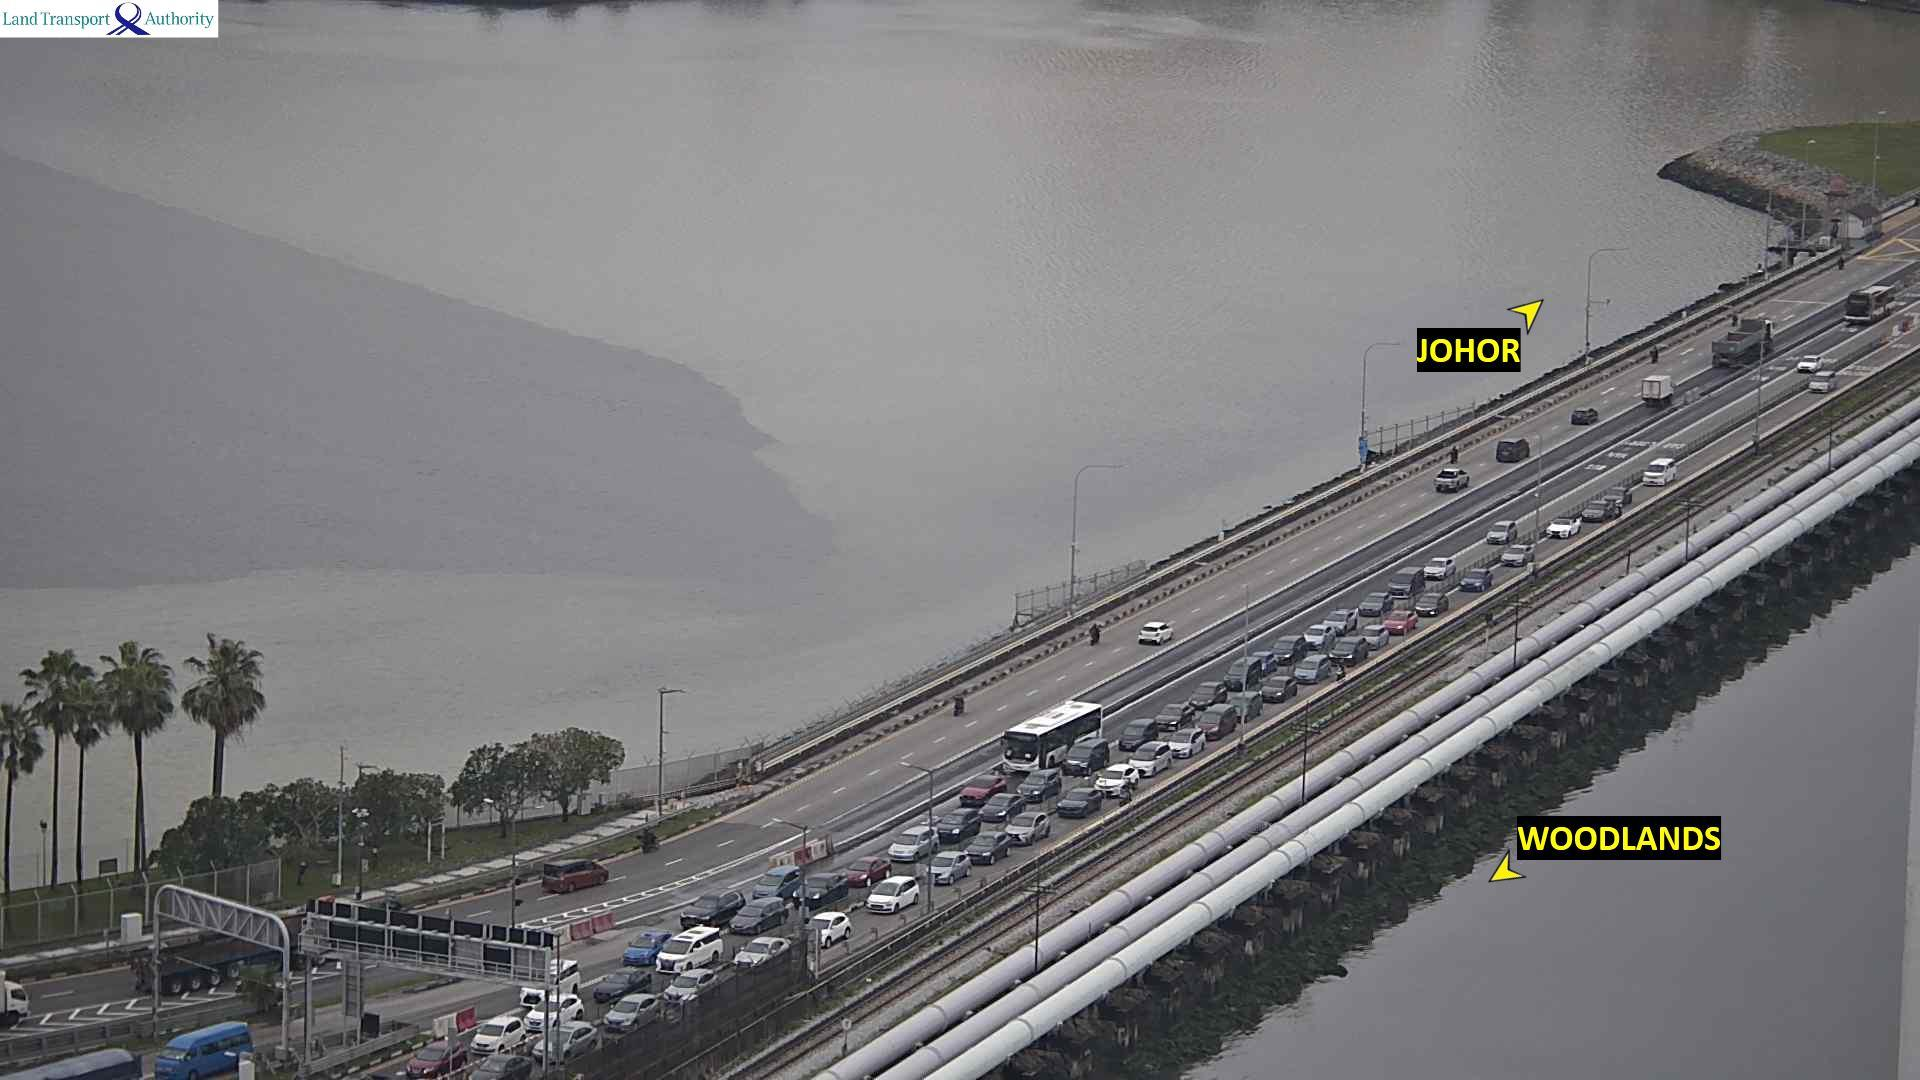vehicle-causeway-johor: (136, 931, 291, 997), (1712, 318, 1775, 365), (538, 861, 607, 891), (0, 971, 28, 1031), (1433, 468, 1470, 492), (1642, 376, 1672, 404), (1139, 620, 1174, 644), (1498, 436, 1530, 462), (638, 827, 661, 853), (1571, 409, 1598, 425), (953, 695, 965, 717), (1087, 624, 1098, 645), (1648, 344, 1659, 364), (1451, 446, 1457, 463), (1731, 314, 1739, 324), (1838, 257, 1845, 269)
vehicle-causeway-singapore: (1005, 704, 1108, 767), (161, 1026, 255, 1077), (0, 1046, 138, 1080), (678, 882, 775, 930), (655, 932, 721, 969), (534, 1022, 597, 1060), (521, 961, 576, 1004), (603, 996, 667, 1030), (405, 1047, 473, 1079), (1846, 284, 1904, 320), (667, 971, 729, 1004), (861, 878, 920, 913), (727, 901, 791, 931), (731, 939, 794, 969), (1089, 764, 1151, 794), (526, 997, 582, 1030), (587, 972, 655, 997), (1002, 812, 1058, 843), (621, 931, 671, 964), (955, 775, 1014, 803), (793, 880, 853, 906), (473, 1019, 525, 1050), (808, 911, 852, 945), (960, 833, 1009, 862), (1017, 771, 1067, 799), (1118, 719, 1167, 746), (473, 1056, 529, 1080), (844, 857, 890, 885), (1052, 794, 1106, 816), (1200, 704, 1236, 737), (934, 818, 982, 841), (1225, 657, 1262, 687), (890, 839, 943, 860), (1134, 744, 1170, 774), (1287, 658, 1335, 680), (975, 794, 1021, 816), (1582, 495, 1626, 518), (1389, 566, 1424, 595), (922, 866, 973, 886), (1408, 589, 1449, 613), (1189, 683, 1224, 711), (1425, 559, 1468, 582), (1643, 458, 1676, 485), (1547, 518, 1586, 541), (1491, 545, 1532, 566), (1254, 686, 1298, 705), (1328, 645, 1373, 663), (1170, 729, 1203, 754), (1278, 634, 1305, 663), (1378, 612, 1418, 632), (1360, 592, 1394, 615), (1156, 704, 1191, 727), (1340, 634, 1393, 649), (1229, 694, 1262, 716), (1487, 520, 1518, 543), (1327, 608, 1356, 632), (1307, 625, 1336, 646), (1456, 578, 1493, 593), (1809, 371, 1834, 392), (1796, 355, 1824, 373), (1251, 651, 1276, 671), (1604, 487, 1631, 501)
